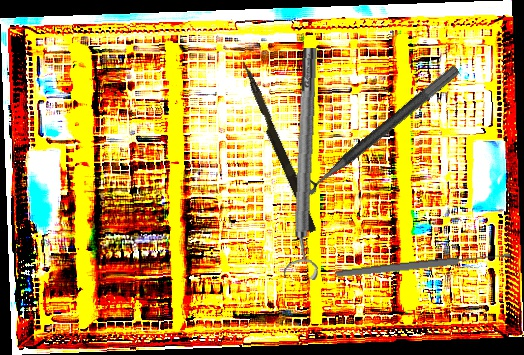Fixation Ring: (284, 51, 462, 203), (279, 47, 332, 280)
Pusher: (234, 59, 322, 234)
Surgical Spoon: (334, 250, 513, 280)
